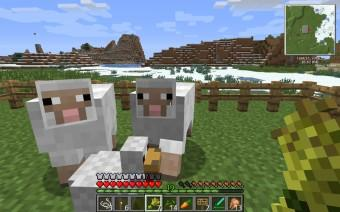sheep: (24, 78, 119, 188), (129, 77, 195, 181)
